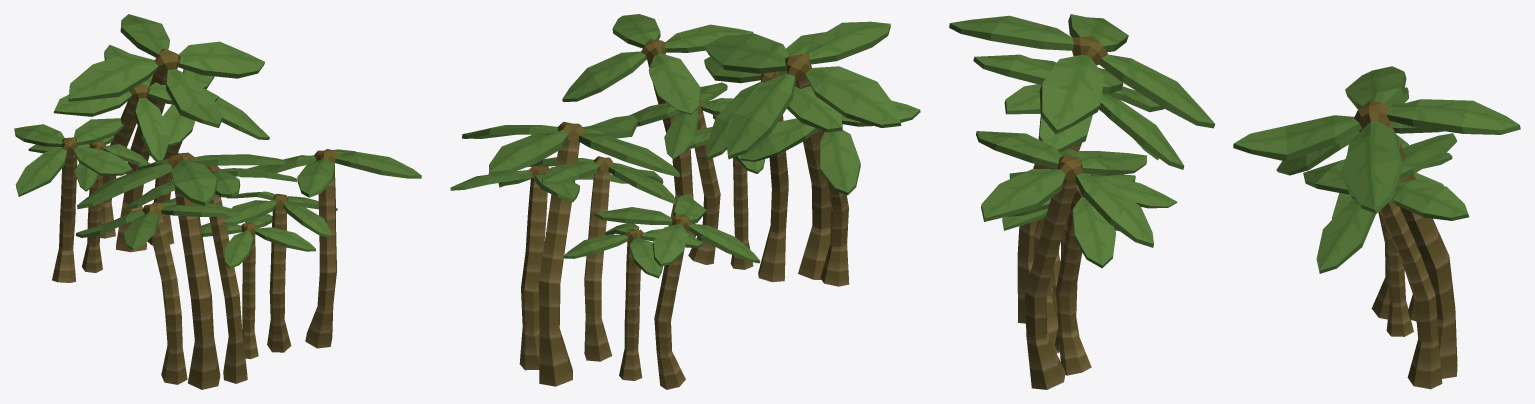
The model's file is PalmTrees01.fbx.
3 views of the same model, side by side, from view 1: azimuth 30°, elevation 25°; view 2: azimuth 150°, elevation 25°; view 3: azimuth 270°, elevation 25° (orthographic). The views are drawn at different scales.
Visible parts, largest first — view 1: PalmTree.004, PalmTree.009, PalmTree.005, PalmTree.012, PalmTree.011, PalmTree.003, PalmTree.010, PalmTree.008, PalmTree.007, PalmTree.002, PalmTree.006; view 2: PalmTree.009, PalmTree.004, PalmTree.012, PalmTree.010, PalmTree.005, PalmTree.011, PalmTree.003, PalmTree.002, PalmTree.008, PalmTree.006, PalmTree.007; view 3: PalmTree.004, PalmTree.012, PalmTree.009, PalmTree.002, PalmTree.008, PalmTree.010, PalmTree.006, PalmTree.011, PalmTree.003, PalmTree.007, PalmTree.005.
Part boxes in pixels (x1=…): PalmTree.004: x1=68, y1=14, x2=264, y2=252; PalmTree.009: x1=77, y1=152, x2=291, y2=389; PalmTree.005: x1=14, y1=118, x2=132, y2=282; PalmTree.012: x1=240, y1=149, x2=421, y2=348; PalmTree.011: x1=76, y1=198, x2=240, y2=384; PalmTree.003: x1=53, y1=45, x2=218, y2=238; PalmTree.010: x1=126, y1=165, x2=296, y2=383; PalmTree.008: x1=223, y1=191, x2=337, y2=352; PalmTree.007: x1=201, y1=214, x2=315, y2=359; PalmTree.002: x1=142, y1=69, x2=269, y2=245; PalmTree.006: x1=28, y1=135, x2=161, y2=272; PalmTree.009: x1=704, y1=21, x2=901, y2=279; PalmTree.004: x1=462, y1=115, x2=679, y2=386; PalmTree.012: x1=562, y1=14, x2=753, y2=237; PalmTree.010: x1=704, y1=32, x2=842, y2=282; PalmTree.005: x1=594, y1=194, x2=760, y2=389; PalmTree.011: x1=740, y1=100, x2=920, y2=286; PalmTree.003: x1=528, y1=156, x2=675, y2=361; PalmTree.002: x1=450, y1=165, x2=627, y2=370; PalmTree.008: x1=629, y1=82, x2=733, y2=264; PalmTree.006: x1=563, y1=223, x2=703, y2=380; PalmTree.007: x1=686, y1=114, x2=764, y2=269; PalmTree.004: x1=1233, y1=66, x2=1520, y2=378; PalmTree.012: x1=976, y1=131, x2=1153, y2=389; PalmTree.009: x1=949, y1=14, x2=1215, y2=323; PalmTree.002: x1=1303, y1=133, x2=1469, y2=389; PalmTree.008: x1=1006, y1=148, x2=1177, y2=375; PalmTree.010: x1=973, y1=54, x2=1184, y2=353; PalmTree.006: x1=1332, y1=152, x2=1452, y2=336; PalmTree.011: x1=1004, y1=58, x2=1164, y2=298; PalmTree.003: x1=1276, y1=87, x2=1443, y2=321; PalmTree.007: x1=1002, y1=171, x2=1135, y2=351; PalmTree.005: x1=1371, y1=134, x2=1408, y2=319.
Bounding box in the file's own units: 5771 × 3272 × 4494.
1 material, 1 textured.
